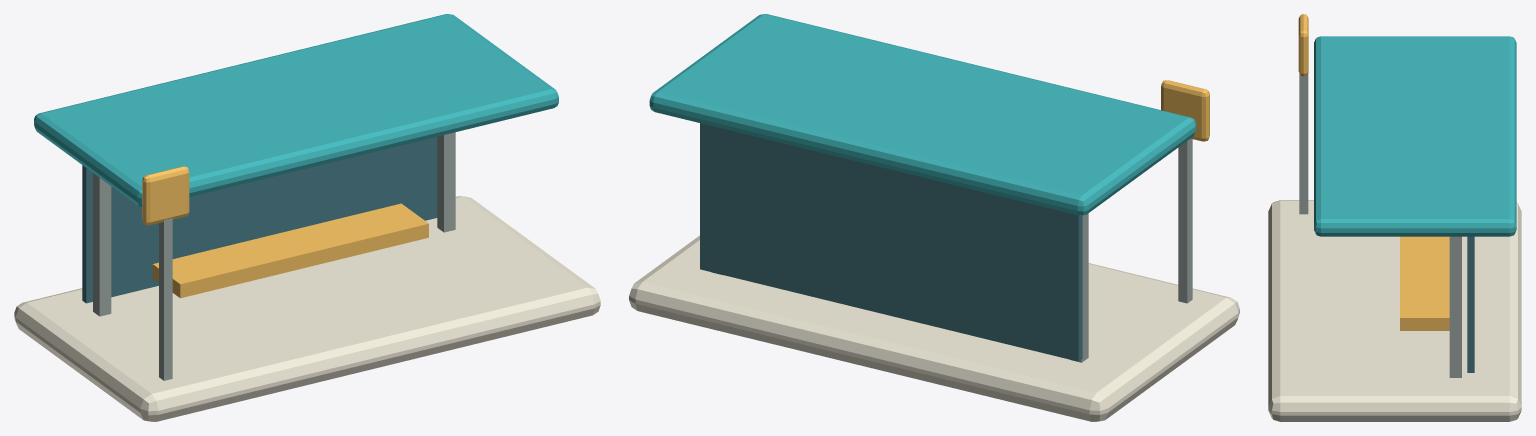
The model's file is shelter.glb.
3 renders of one model, left to right at view 1: azimuth 30°, elevation 25°; view 2: azimuth 150°, elevation 25°; view 3: azimuth 270°, elevation 25°, orthographic. The views are drawn at different scales.
Parts seen in each view (by area): view 1: shelter; view 2: shelter; view 3: shelter.
Part boxes in pixels (left/top/right/bottom): shelter: left=14, top=14, right=600, bottom=421; shelter: left=629, top=14, right=1239, bottom=421; shelter: left=1268, top=14, right=1521, bottom=421.
Bounding box in the file's own units: 4.8 × 2.35 × 2.5.
